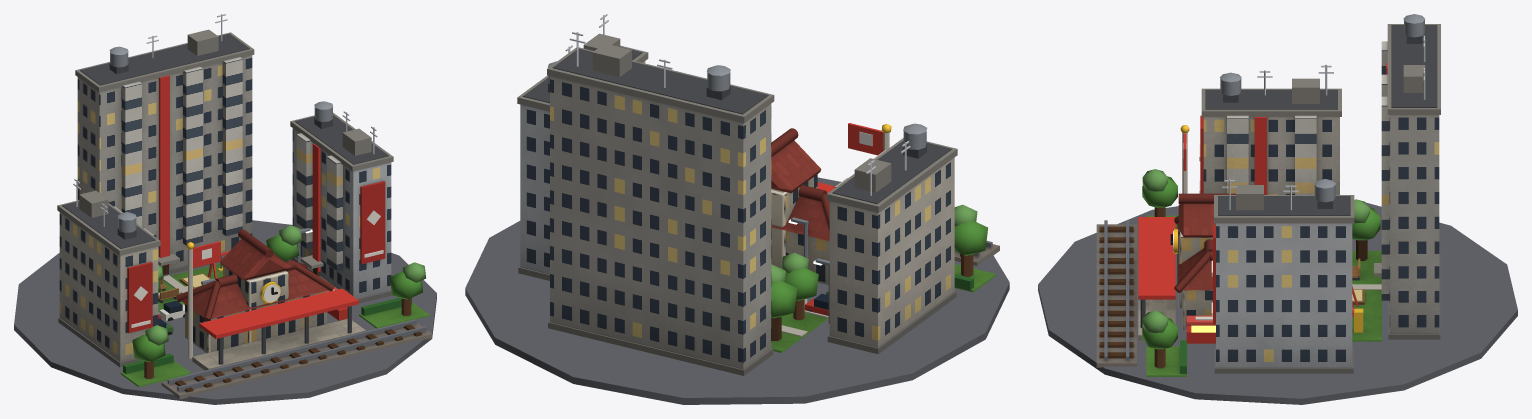
File: city_dl6_red.glb
3 renders of one model, left to right at view 1: azimuth 30°, elevation 25°; view 2: azimuth 150°, elevation 25°; view 3: azimuth 270°, elevation 25°, orthographic. The views are drawn at different scales.
Visible parts, largest first — view 1: city_dl6_red; view 2: city_dl6_red; view 3: city_dl6_red.
Boxes of the visible parts, box(x1,y1,x2,y2) form: city_dl6_red: box(14, 14, 436, 404); city_dl6_red: box(465, 14, 1009, 404); city_dl6_red: box(1038, 14, 1517, 404).
Bounding box in the file's own units: 1.55 × 0.952 × 1.55.
3 materials, 1 textured.
